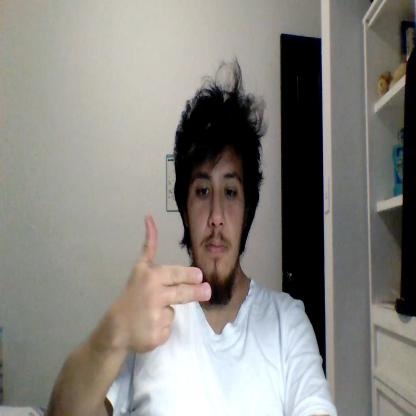H: (125, 213, 211, 353)
